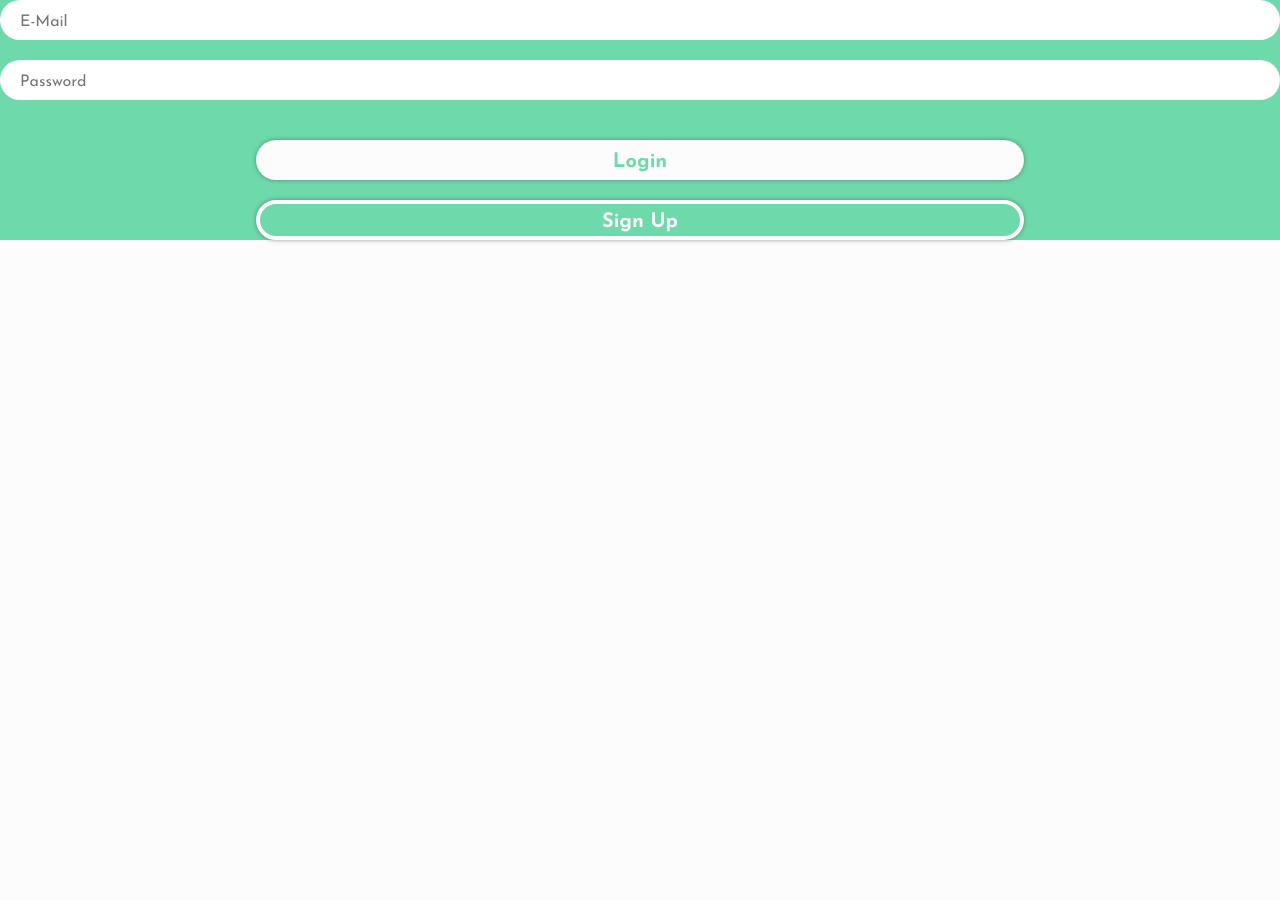
Test case: LoginForm › shows the sign up modal on registrationMock
This screenshot has width=1280, height=900.
Step 1. Type "admin@admin.com" into the field with placeholder "E-Mail" → {"x": 640, "y": 20}, box x1=0 y1=0 x2=1279 y2=40
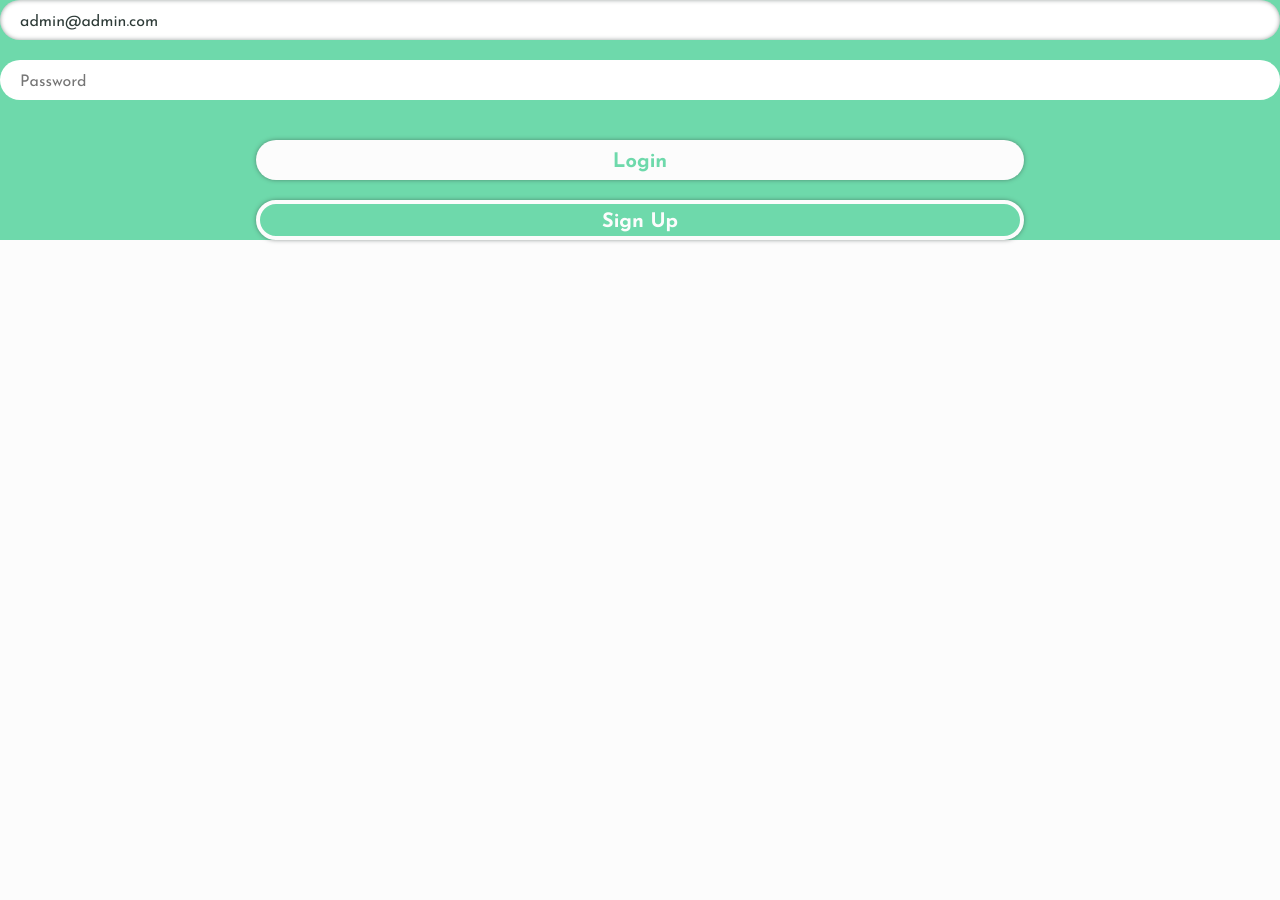
Step 2. Type "##Admin12" into the password field with placeholder "Password" → {"x": 640, "y": 80}, box x1=0 y1=60 x2=1279 y2=100
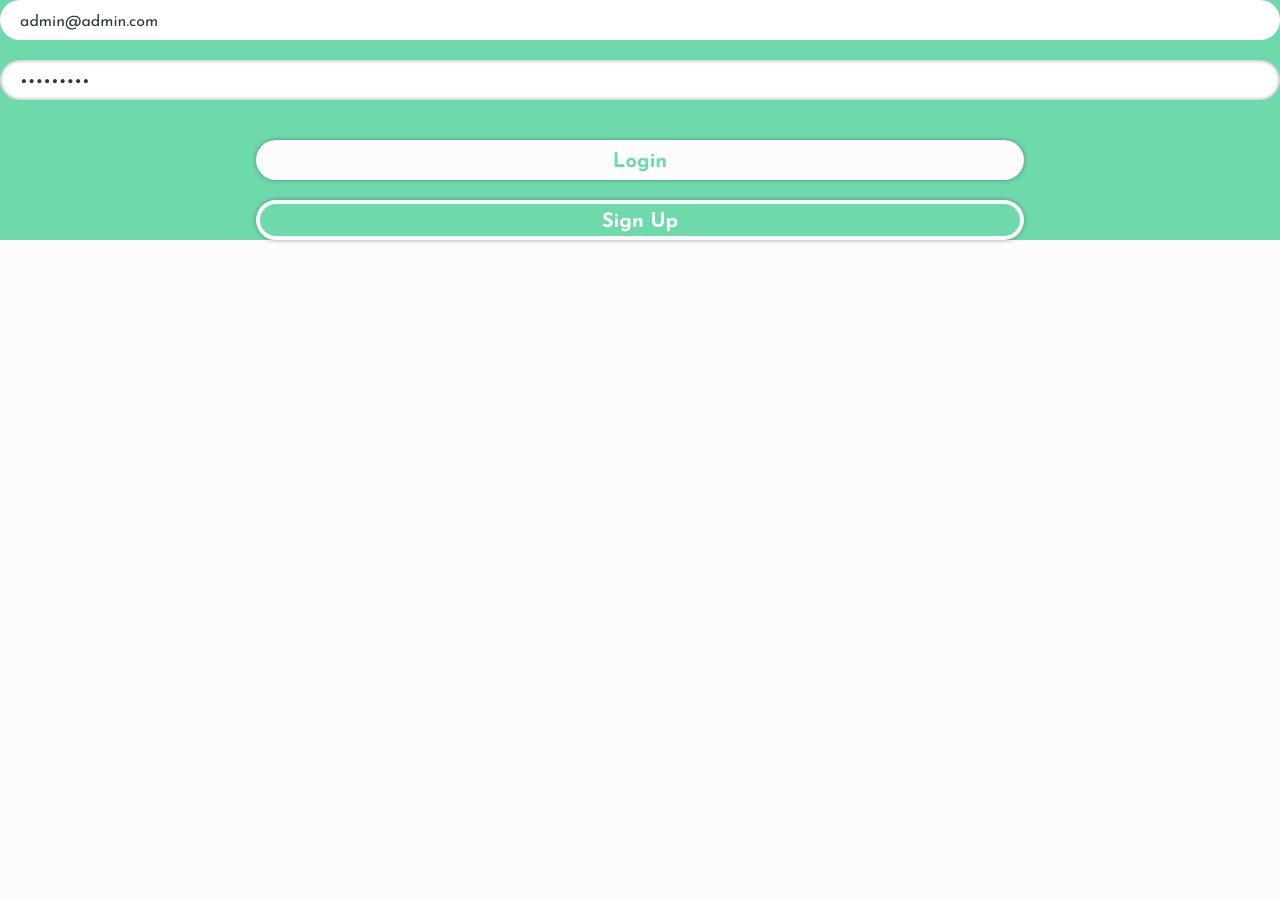
Step 3. Click the button "Sign Up" → {"x": 640, "y": 220}, box x1=256 y1=200 x2=1024 y2=240
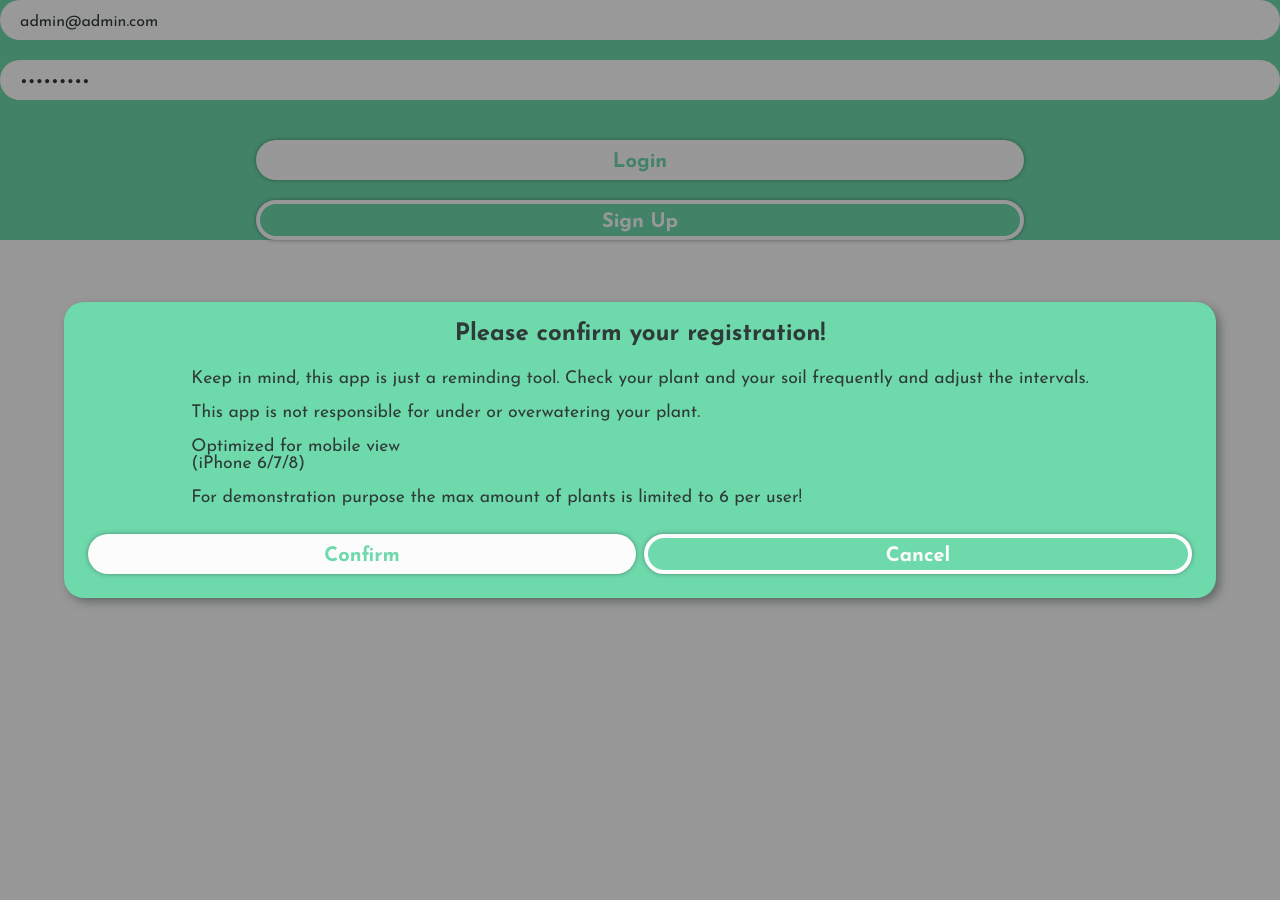
Result: the heading "Please confirm your registration!" is shown at x1=455 y1=322 x2=825 y2=346
